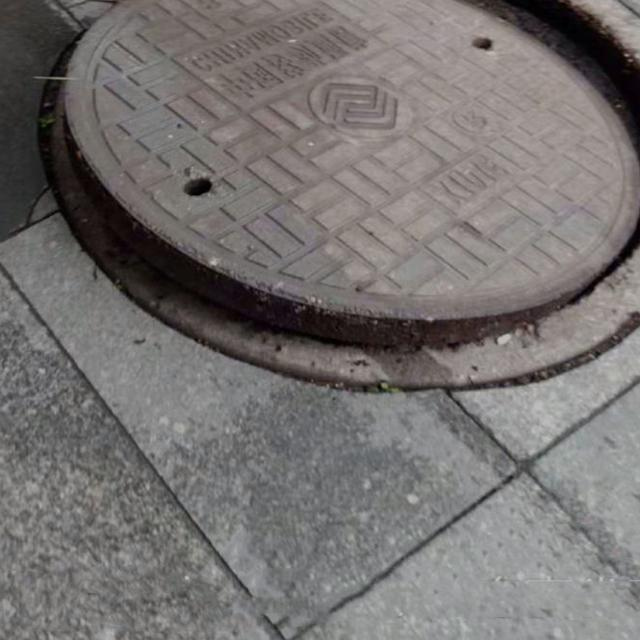uncovered: (37, 0, 640, 386)
